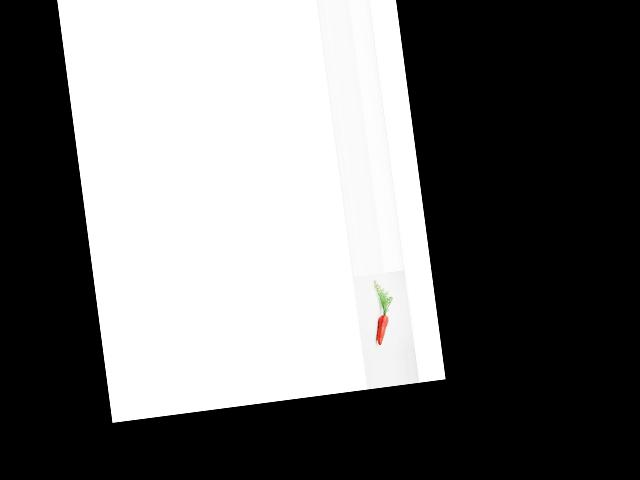carrot: (367, 312, 392, 348)
